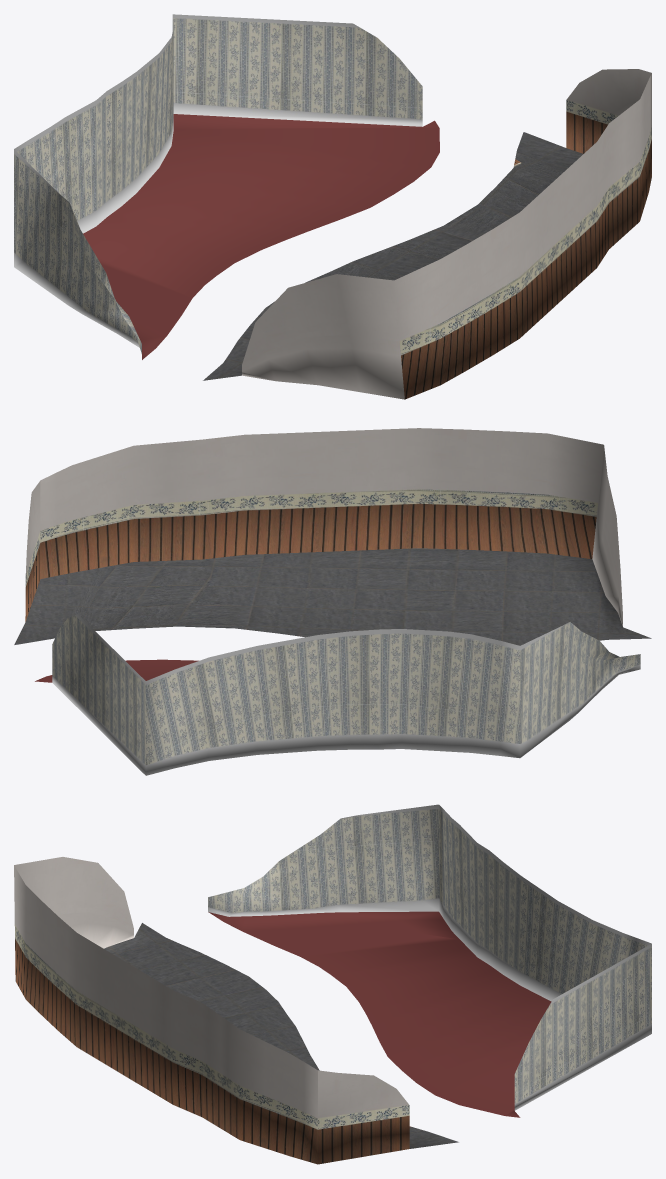
Rendered from mesh_80_wall.glb.
The picture shows the model from 3 angles, top to bottom: view 1: azimuth 30°, elevation 25°; view 2: azimuth 150°, elevation 25°; view 3: azimuth 270°, elevation 25°; orthographic projection. The views are drawn at different scales.
Visible parts, largest first — view 1: mesh_80_wall; view 2: mesh_80_wall; view 3: mesh_80_wall.
Part boxes in pixels (box(x1,y1,x2,y2)): mesh_80_wall: box(14, 14, 651, 399); mesh_80_wall: box(14, 428, 651, 775); mesh_80_wall: box(14, 804, 651, 1164).
Bounding box in the file's own units: 11.64 × 2.46 × 12.41.
1 material, 1 textured.
